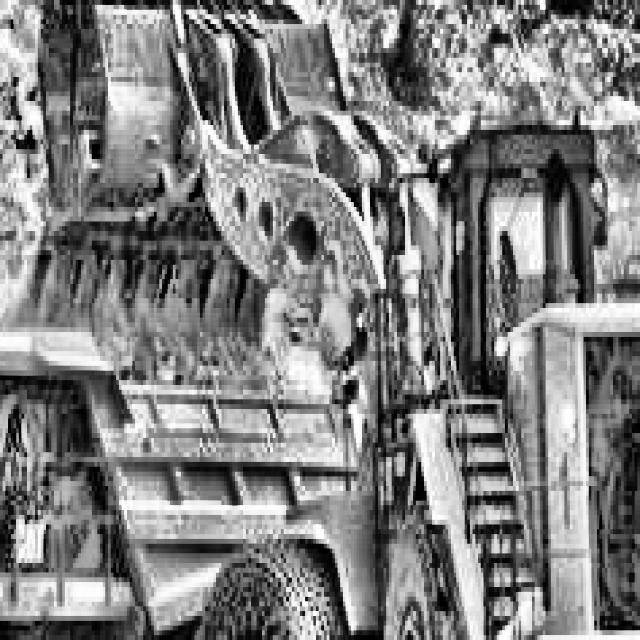buldozerpayloadergrader: (35, 0, 640, 640)
dump_truck: (0, 250, 194, 640)
